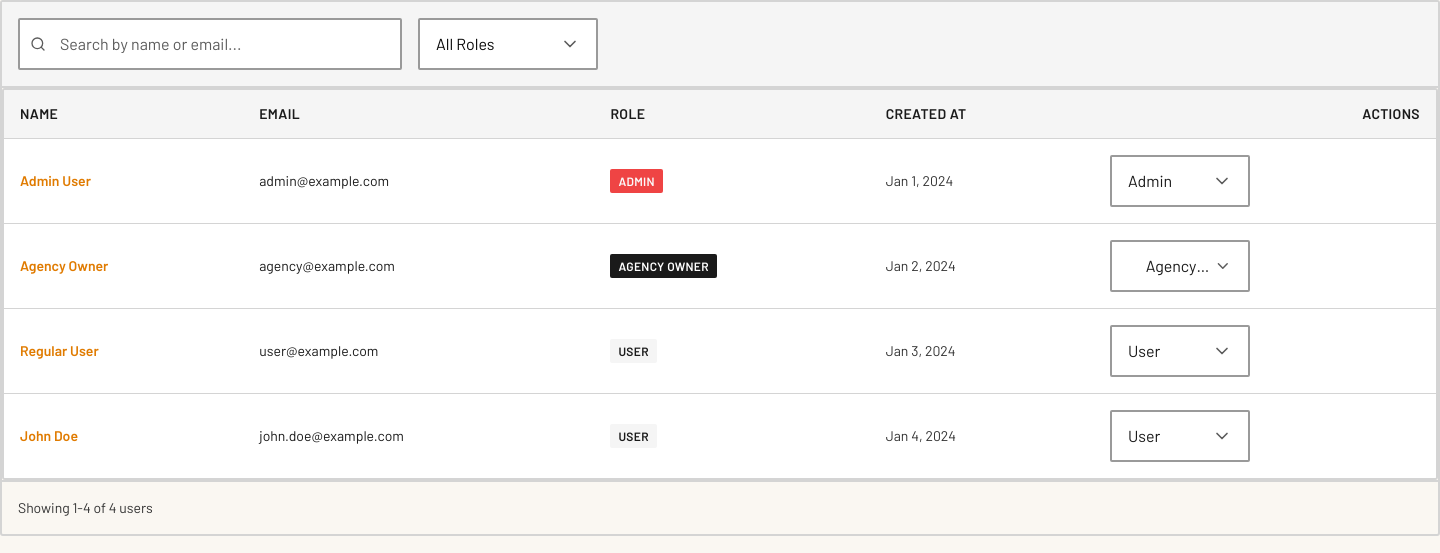
Test: UsersTable › filters users by search query (name)
Type "john" into the field with placeholder "Search by name or email..." at x=210, y=44, box [18,18,402,70]
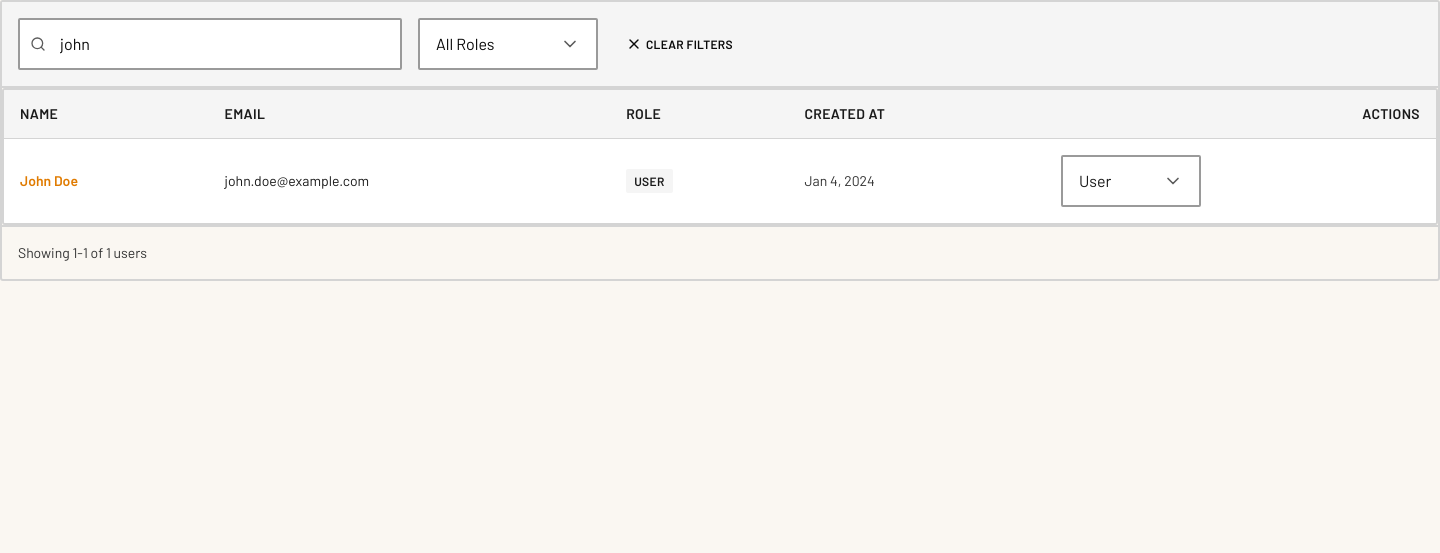
Expected: the link "John Doe" is shown, [20,172,78,188]
Expected: the link "Admin User" is gone
